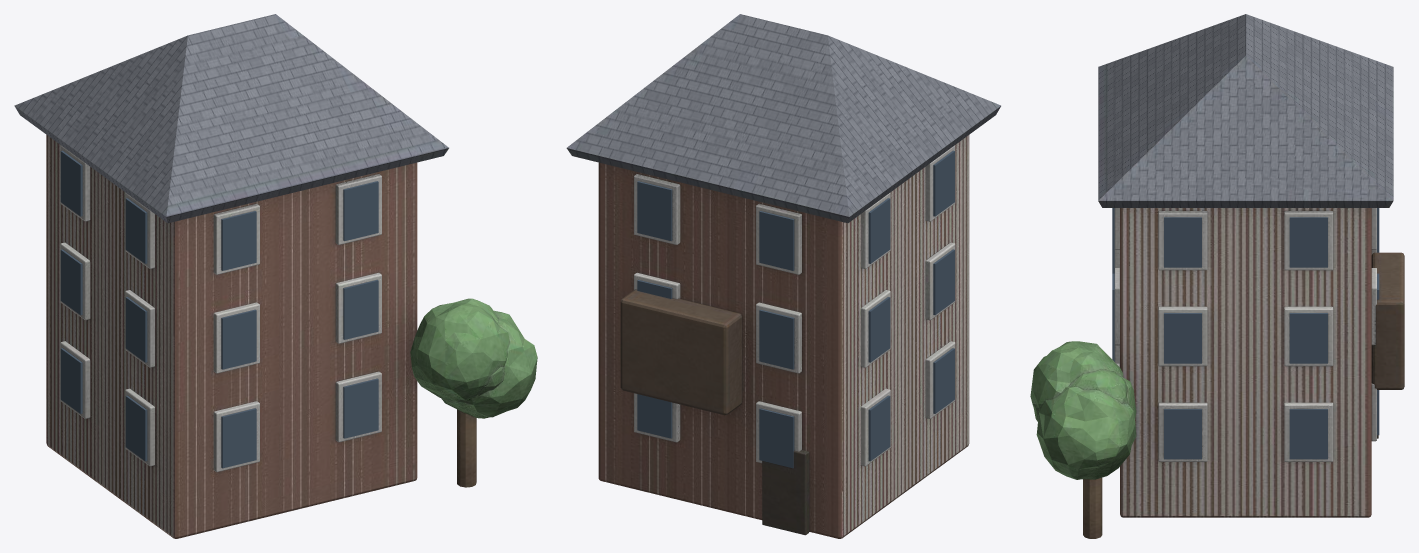
File: detektivbuero.glb
3 views of the same model, side by side, from view 1: azimuth 30°, elevation 25°; view 2: azimuth 150°, elevation 25°; view 3: azimuth 270°, elevation 25° (orthographic). The views are drawn at different scales.
Parts seen in each view (by area): view 1: detektivbuero, detektivbuero_details; view 2: detektivbuero, detektivbuero_details; view 3: detektivbuero, detektivbuero_details.
Boxes of the visible parts, box(x1,y1,x2,y2) form: detektivbuero: box(14, 14, 537, 538); detektivbuero_details: box(60, 150, 378, 468); detektivbuero: box(566, 14, 1000, 538); detektivbuero_details: box(637, 150, 954, 468); detektivbuero: box(1030, 14, 1404, 538); detektivbuero_details: box(1112, 208, 1379, 459).
Size of the model in its own units: 0.7395 by 0.86 by 0.6838.
2 materials, 1 textured.
